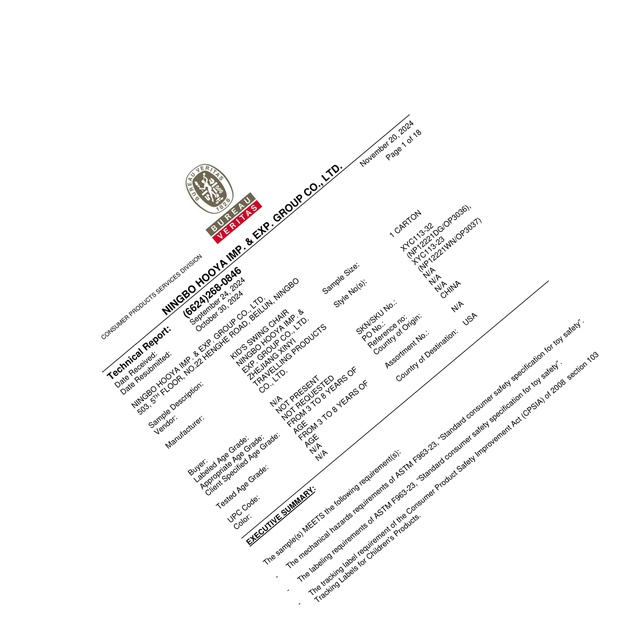bureau_veritas: (182, 161, 264, 247)
